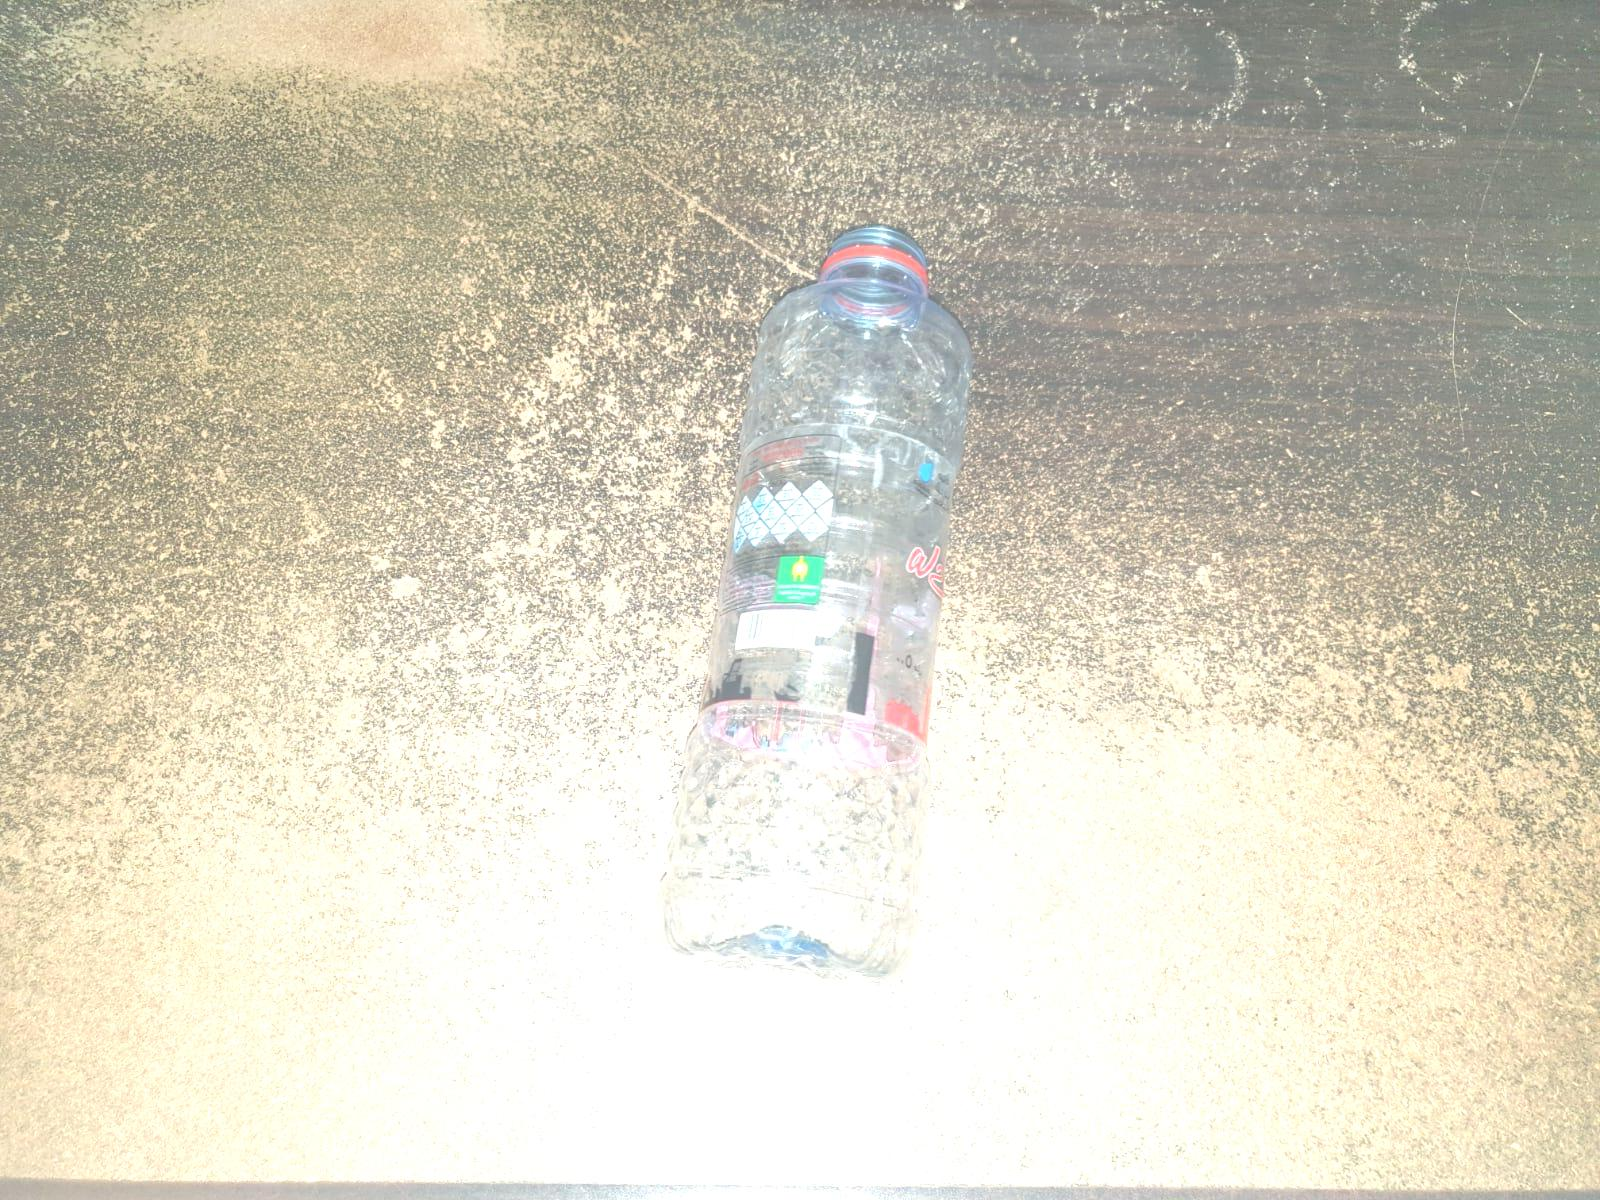bottle: (654, 208, 986, 984)
